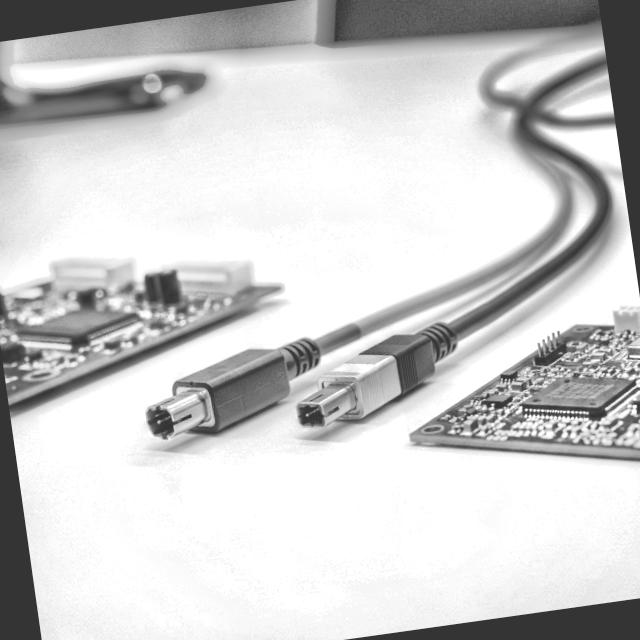Cable: (104, 29, 640, 454)
PCB: (0, 203, 297, 419), (388, 294, 640, 496)
